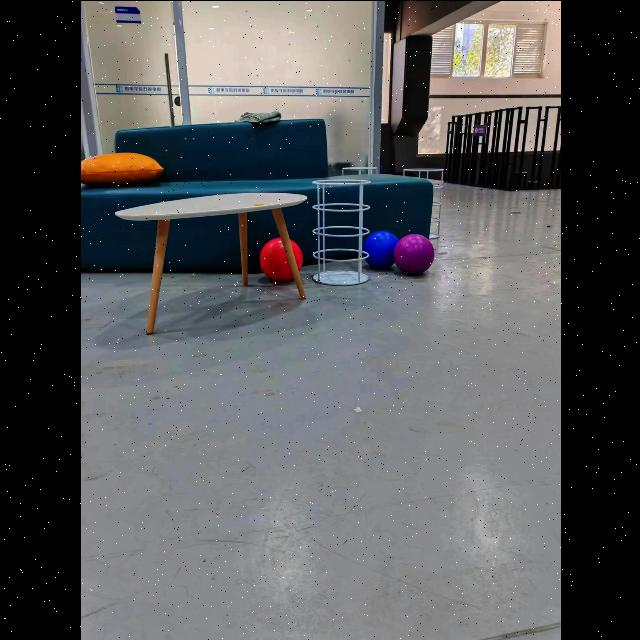B: (362, 229, 397, 268)
P: (392, 233, 433, 273)
R: (258, 234, 302, 282)
S: (312, 178, 369, 285)
